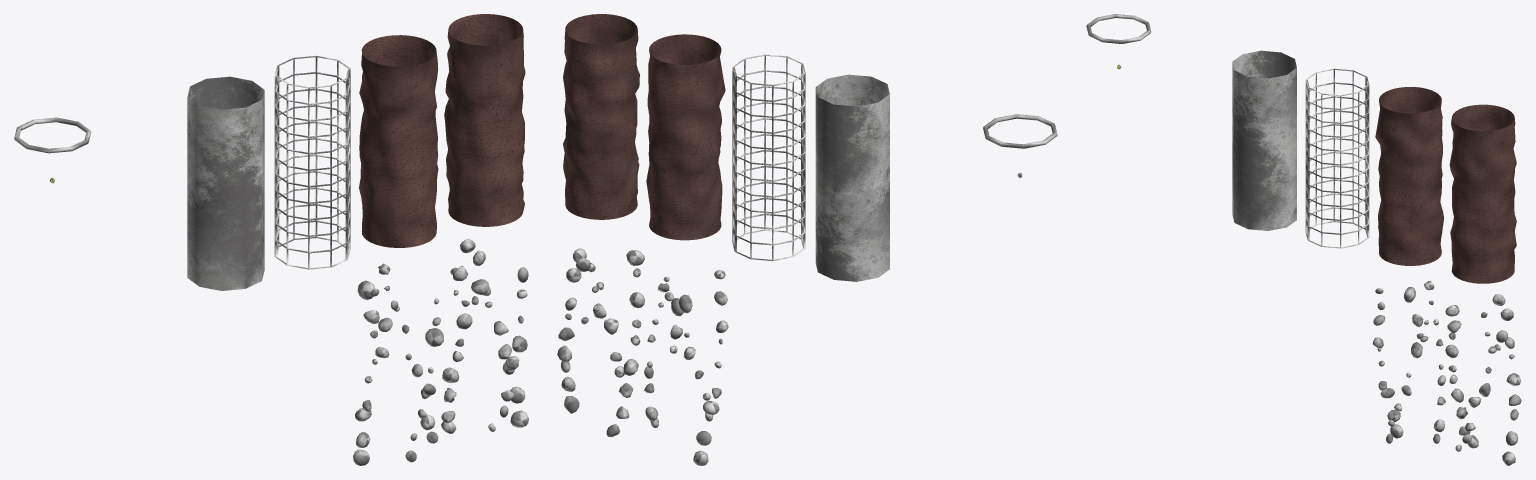
The model's file is models.glb.
3 renders of one model, left to right at view 1: azimuth 30°, elevation 25°; view 2: azimuth 150°, elevation 25°; view 3: azimuth 330°, elevation 25°, orthographic. The views are drawn at different scales.
Visible parts, largest first — view 1: Cylinder_tube, Cylinder_dirt_2, Cylinder_dirt_1, Cylinder_bars, Rocks_2, Rocks_1, Ring_metal; view 2: Cylinder_tube, Cylinder_dirt_1, Cylinder_dirt_2, Cylinder_bars, Rocks_2, Rocks_1, Ring_metal; view 3: Cylinder_tube, Cylinder_dirt_2, Cylinder_dirt_1, Cylinder_bars, Rocks_2, Rocks_1, Ring_metal.
Part boxes in pixels (x1,y1,x2,y2): Cylinder_tube: (187, 76, 264, 290); Cylinder_dirt_2: (444, 14, 525, 226); Cylinder_dirt_1: (359, 35, 438, 247); Cylinder_bars: (274, 55, 350, 269); Rocks_2: (441, 239, 528, 433); Rocks_1: (353, 263, 443, 465); Ring_metal: (14, 117, 91, 153); Cylinder_tube: (815, 74, 889, 281); Cylinder_dirt_1: (646, 34, 725, 240); Cylinder_dirt_2: (563, 14, 639, 219); Cylinder_bars: (732, 54, 805, 261); Rocks_2: (557, 248, 644, 437); Rocks_1: (644, 270, 728, 465); Ring_metal: (983, 114, 1057, 148); Cylinder_tube: (1232, 50, 1296, 230); Cylinder_dirt_2: (1449, 104, 1516, 283); Cylinder_dirt_1: (1375, 87, 1444, 265); Cylinder_bars: (1305, 68, 1369, 248); Rocks_2: (1445, 294, 1521, 465); Rocks_1: (1372, 280, 1445, 443); Ring_metal: (1086, 14, 1151, 43).
Bounding box in the file's own units: 23.33 × 18.45 × 3.51.
Materials: 4 (3 with a texture image).
